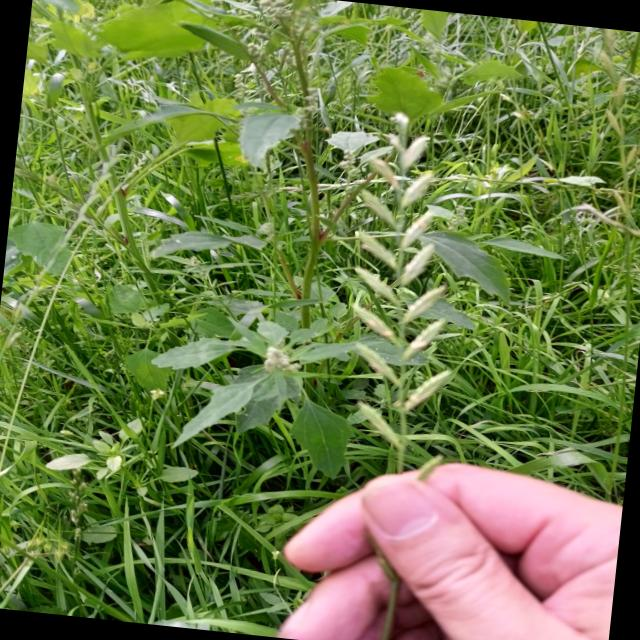Lolium: (0, 0, 640, 640), (326, 112, 482, 486)
